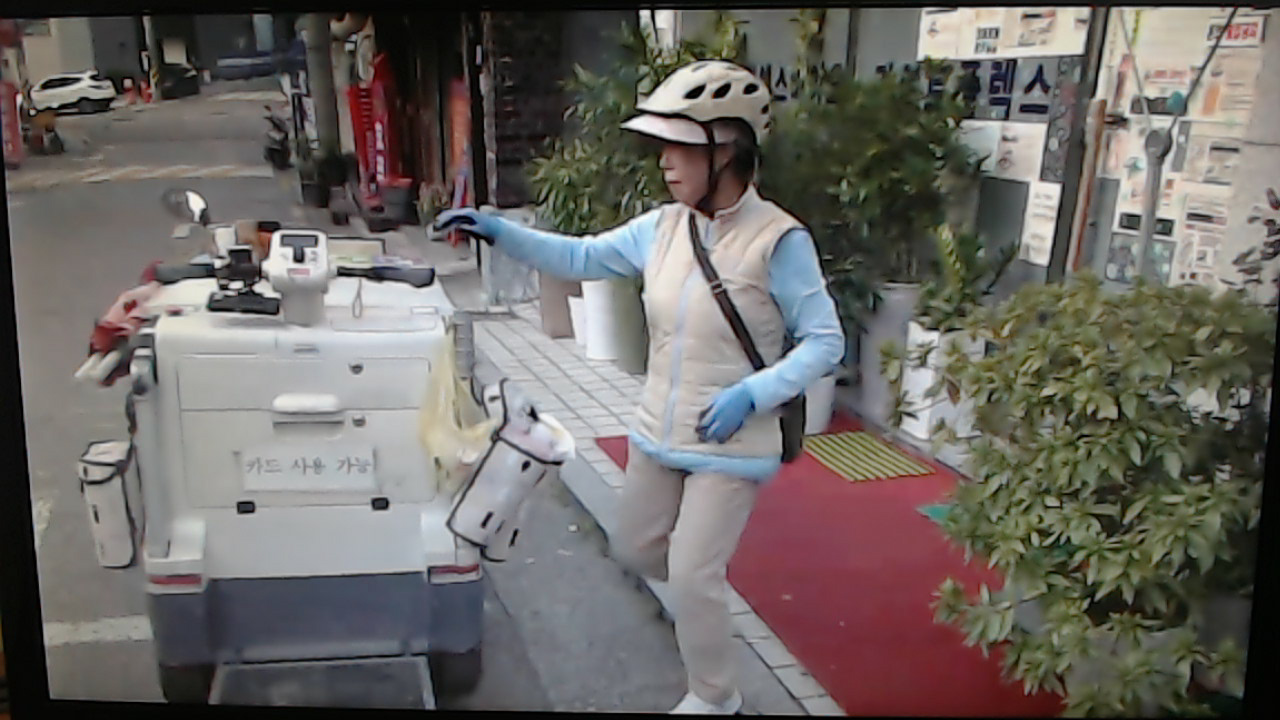Yakurut: (422, 45, 858, 719)
